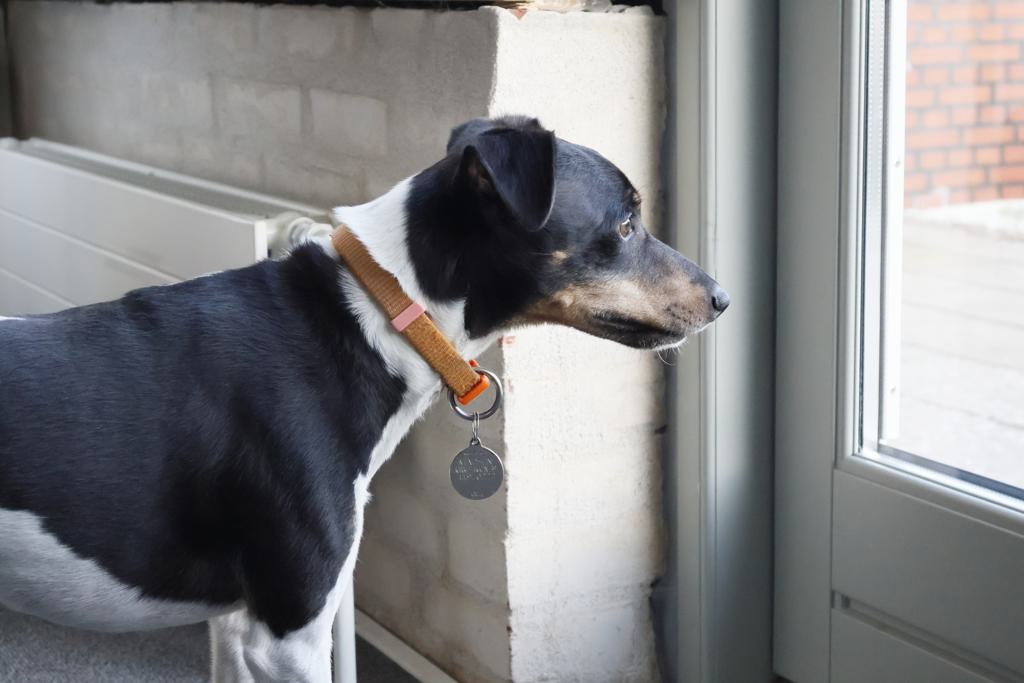Dog: (0, 103, 747, 683)
